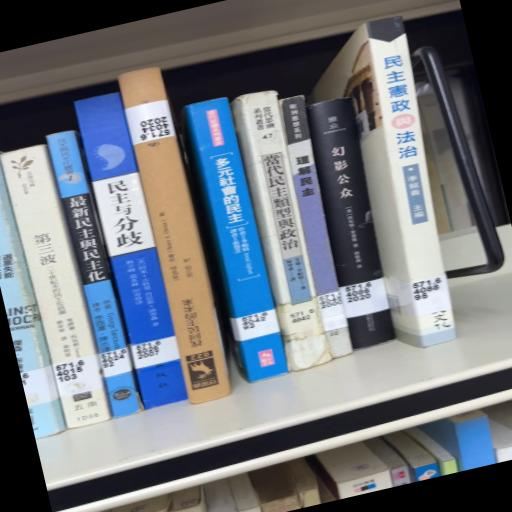reverse: (119, 69, 231, 404)
